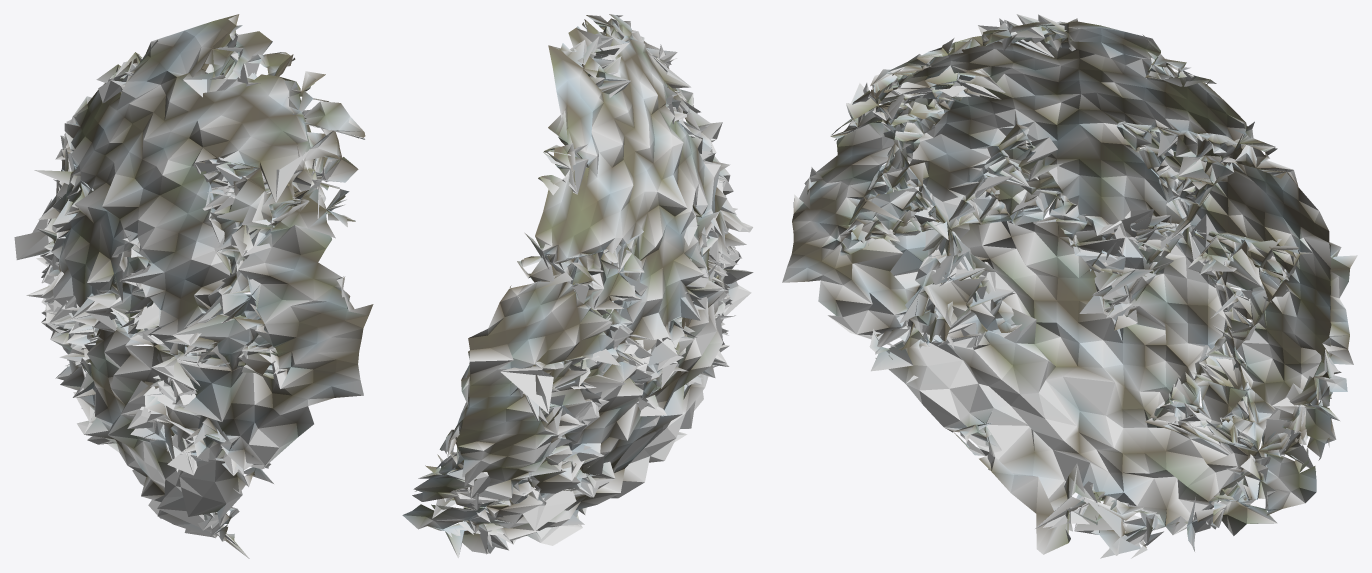
3 renders of one model, left to right at view 1: azimuth 30°, elevation 25°; view 2: azimuth 150°, elevation 25°; view 3: azimuth 270°, elevation 25°, orthographic. The views are drawn at different scales.
Bounding box in the file's own units: 0.362 × 0.8428 × 0.8187.
